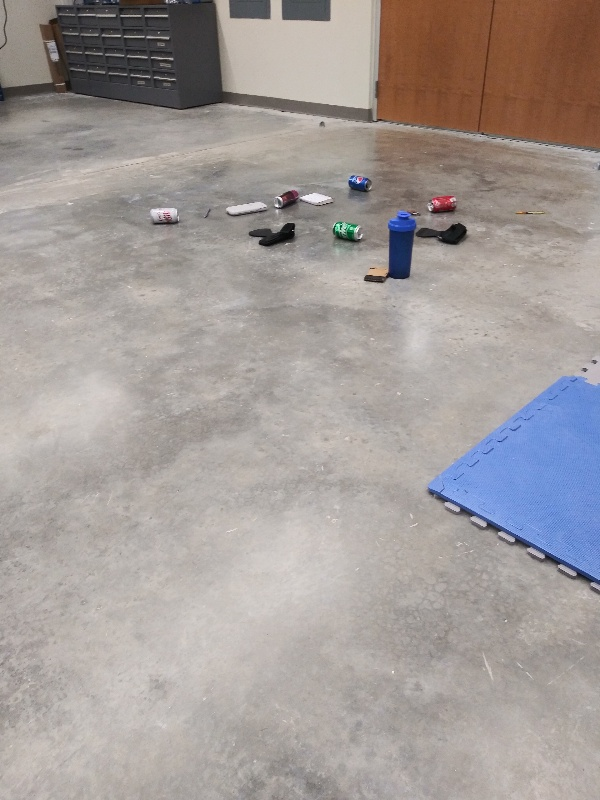can: (330, 217, 366, 243), (147, 203, 182, 226), (270, 188, 302, 212), (426, 193, 464, 213), (344, 172, 376, 193)
